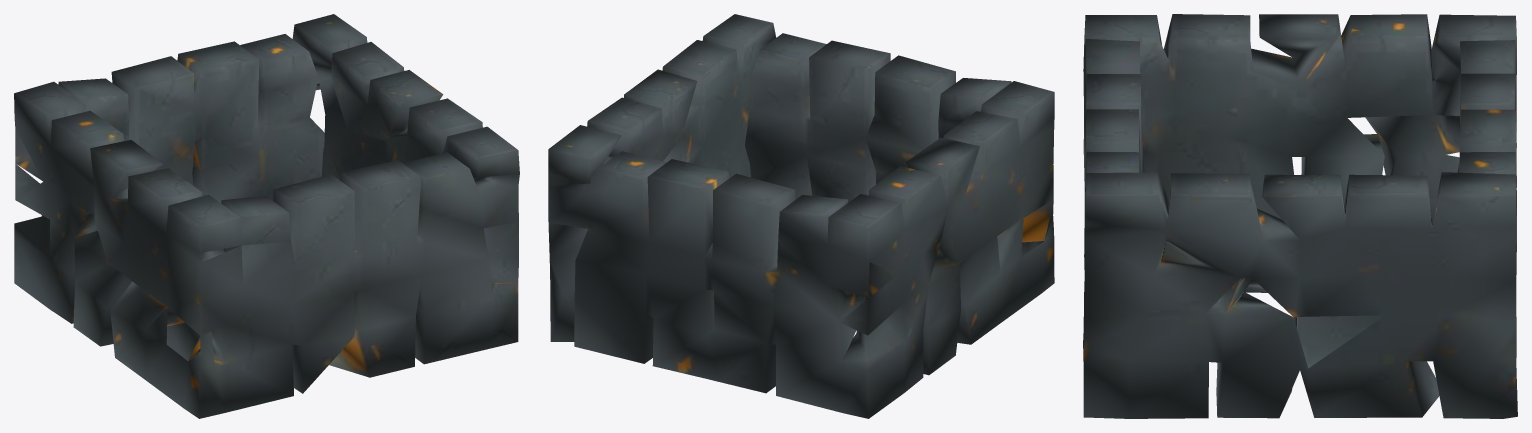
Rendered from arena-orewall.glb.
The picture shows the model from 3 angles, left to right: view 1: azimuth 30°, elevation 25°; view 2: azimuth 150°, elevation 25°; view 3: azimuth 270°, elevation 25°; orthographic projection. The views are drawn at different scales.
Bounding box in the file's own units: 0.9516 × 0.543 × 0.959.
1 material, 1 textured.
